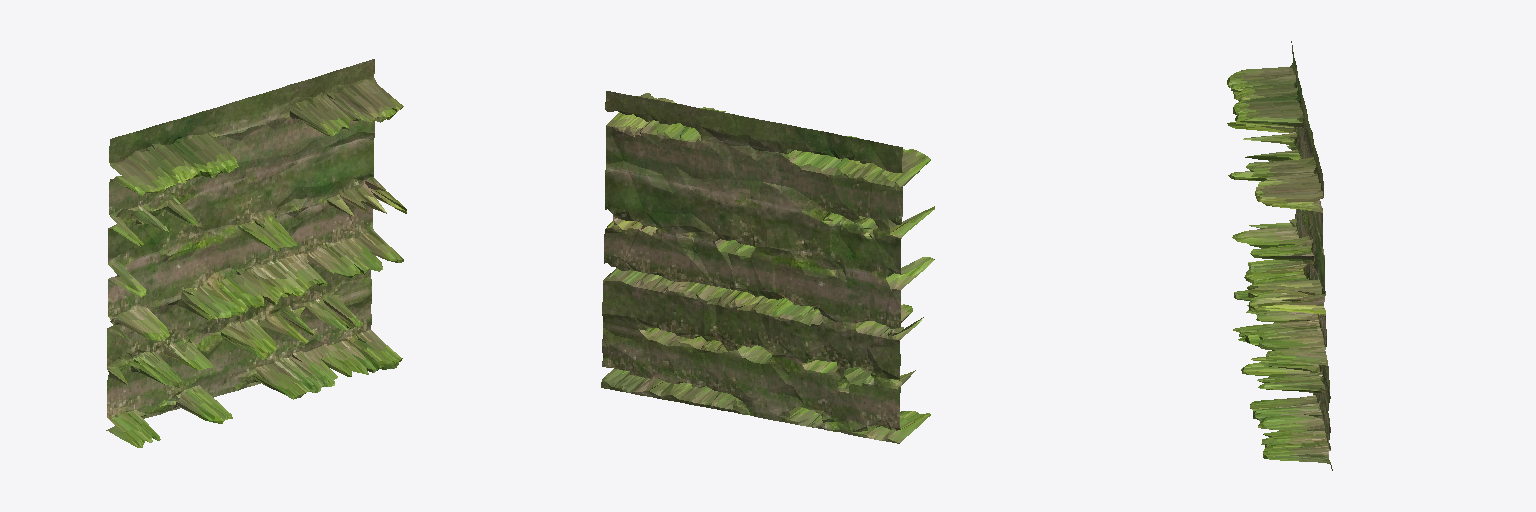
3 renders of one model, left to right at view 1: azimuth 30°, elevation 25°; view 2: azimuth 150°, elevation 25°; view 3: azimuth 270°, elevation 25°, orthographic.
Visible parts, largest first — view 1: grp1; view 2: grp1; view 3: grp1.
Part boxes in pixels (bbox=[...]): grp1: bbox=[106, 59, 406, 447]; grp1: bbox=[601, 91, 934, 443]; grp1: bbox=[1227, 41, 1332, 470].
Size of the model in its own units: 10 by 10 by 3.25.
1 materials, 1 textured.